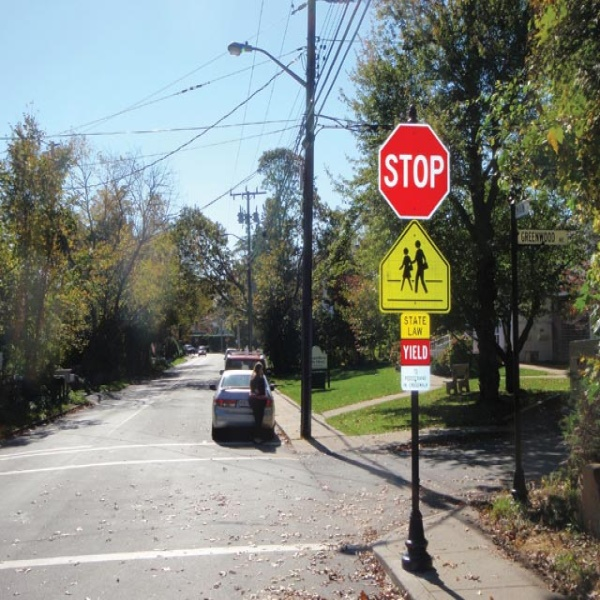stop: (381, 117, 449, 218)
